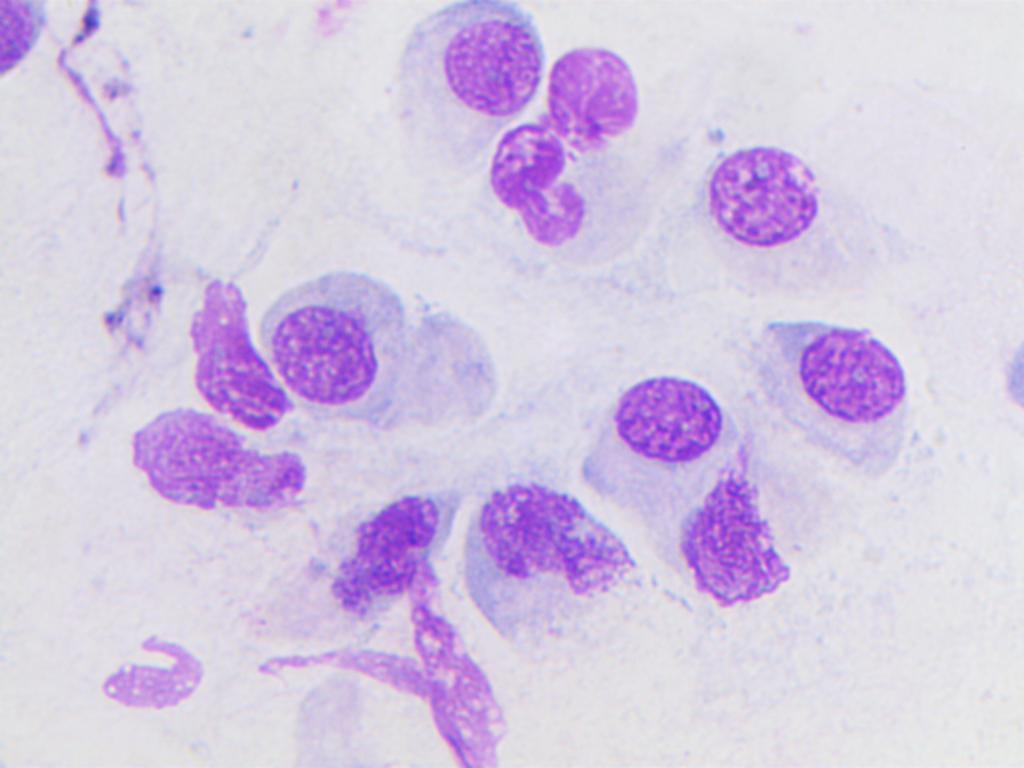artifact: (47, 0, 182, 357), (322, 584, 521, 768), (121, 414, 318, 518), (98, 626, 218, 720)
epithelial: (670, 141, 928, 297), (271, 269, 505, 422), (769, 309, 934, 480), (472, 469, 651, 620), (390, 2, 551, 140), (319, 472, 461, 628), (663, 478, 806, 628), (585, 357, 731, 472), (482, 124, 611, 252), (530, 26, 645, 164), (0, 0, 41, 83)
